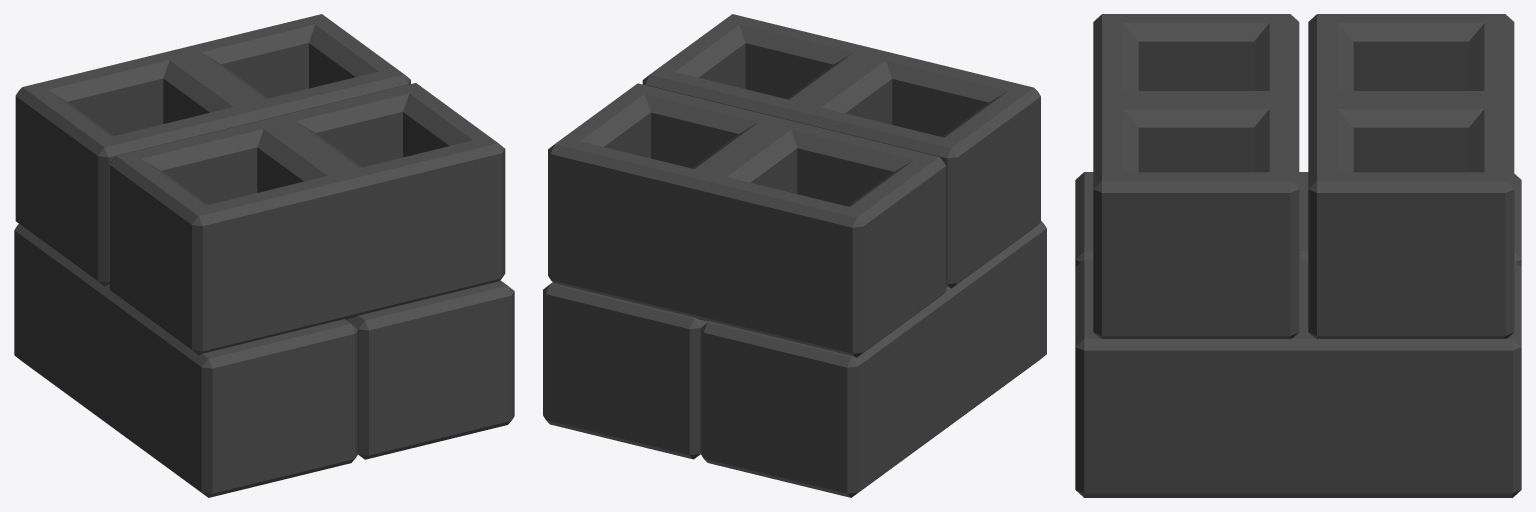
The model's file is props_32.glb.
The picture shows the model from 3 angles, left to right: view 1: azimuth 30°, elevation 25°; view 2: azimuth 150°, elevation 25°; view 3: azimuth 270°, elevation 25°; orthographic projection. The views are drawn at different scales.
Visible parts, largest first — view 1: props_32; view 2: props_32; view 3: props_32.
Boxes of the visible parts, x1=… form: props_32: x1=14, y1=14, x2=514, y2=497; props_32: x1=543, y1=14, x2=1046, y2=497; props_32: x1=1075, y1=14, x2=1521, y2=497.
Bounding box in the file's own units: 0.5175 × 0.4343 × 0.5558.
Materials: 1 (1 with a texture image).
